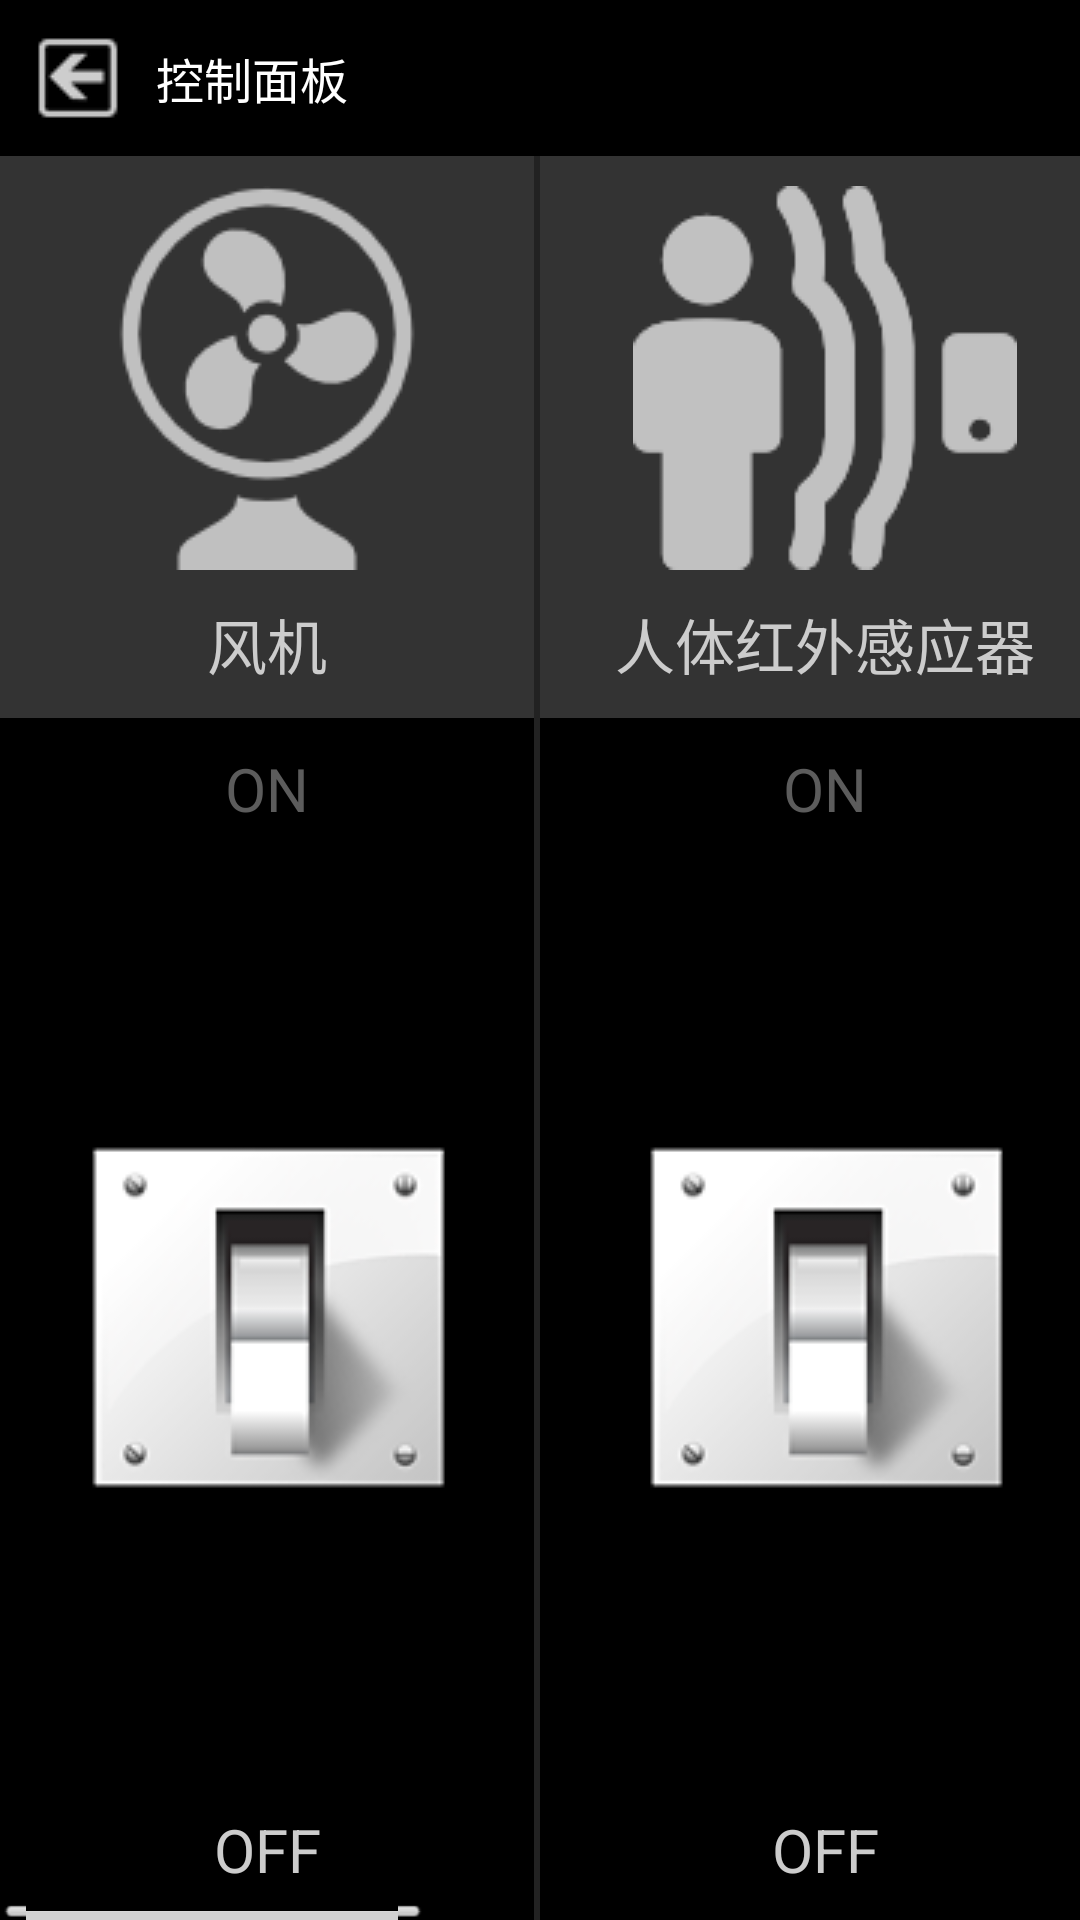

Icon click points for this 1080 x 1920 phone screenshot, format point (x, y):
switch off: point (268, 1317), point (826, 1317)
